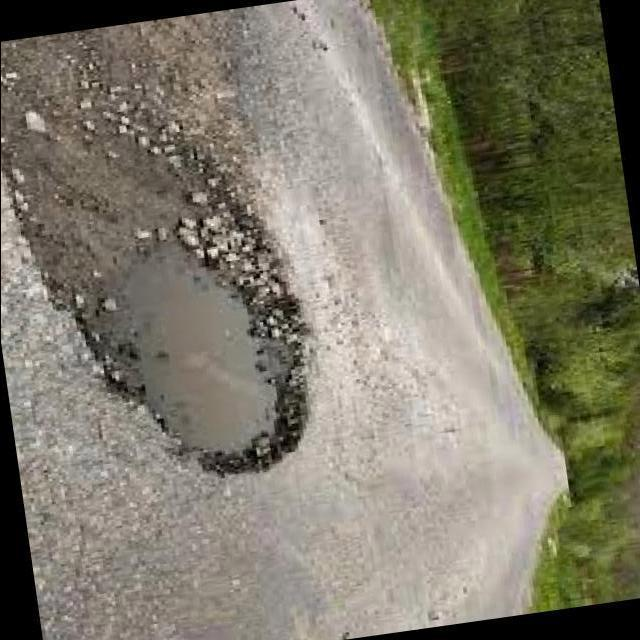pothole: (24, 181, 307, 476)
